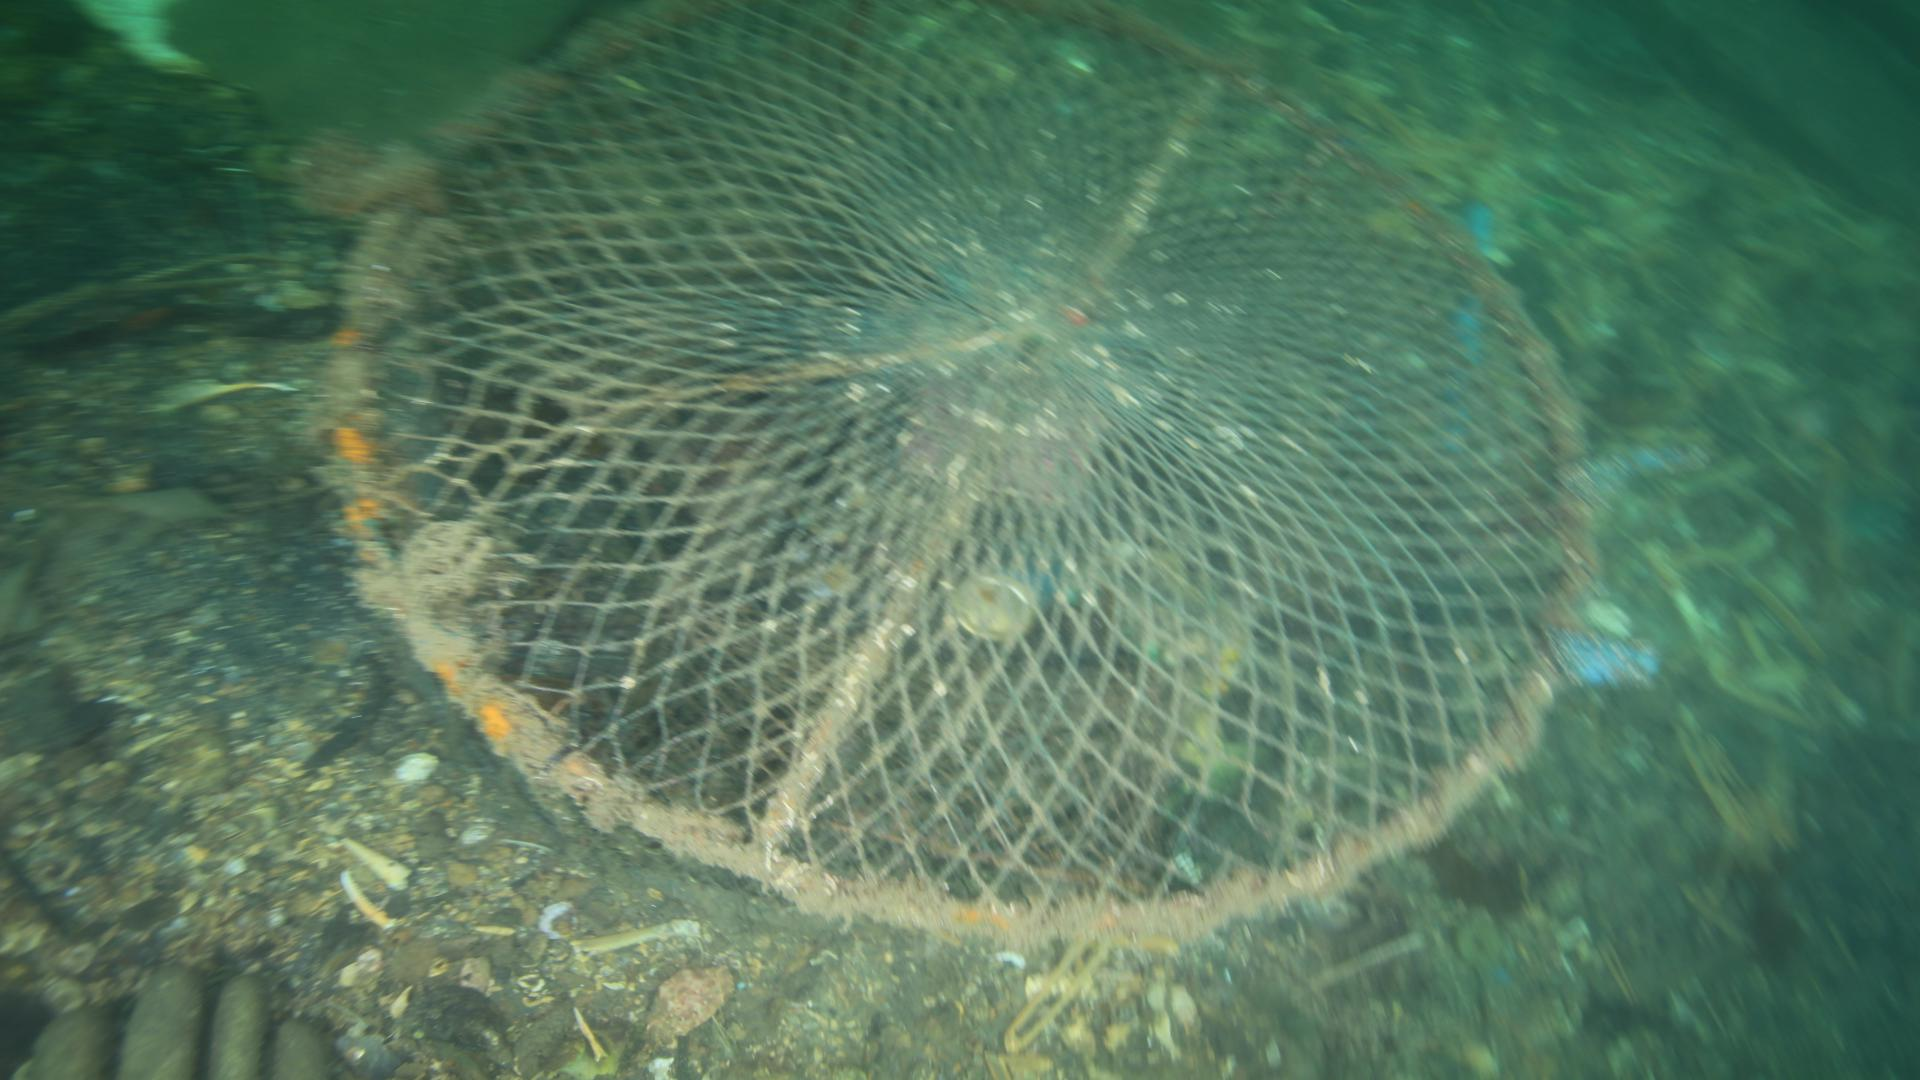circular fish trap: (328, 0, 1602, 963)
